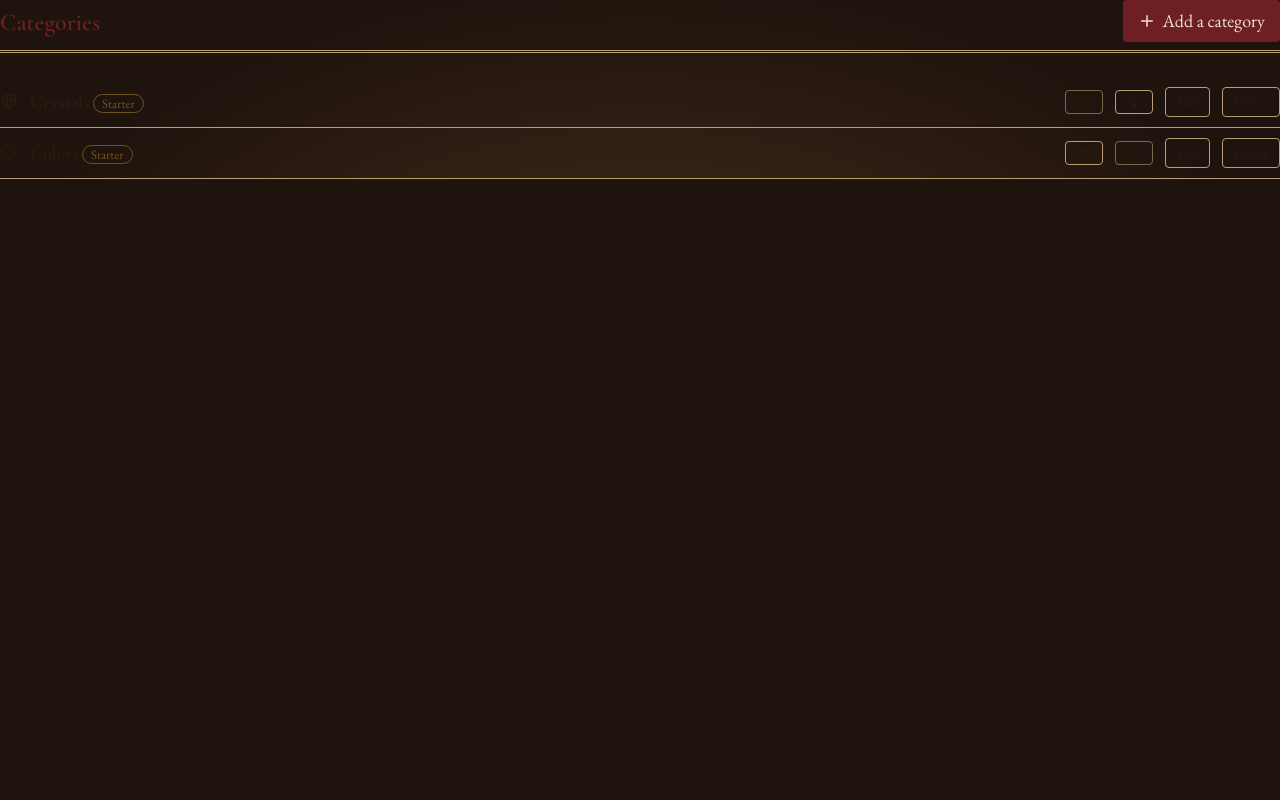
Test: Categories › shows the conflict dialog on a stale save
Click the button "Edit" in the row of "Crystals" at (1188, 102), box [1165, 87, 1210, 117]
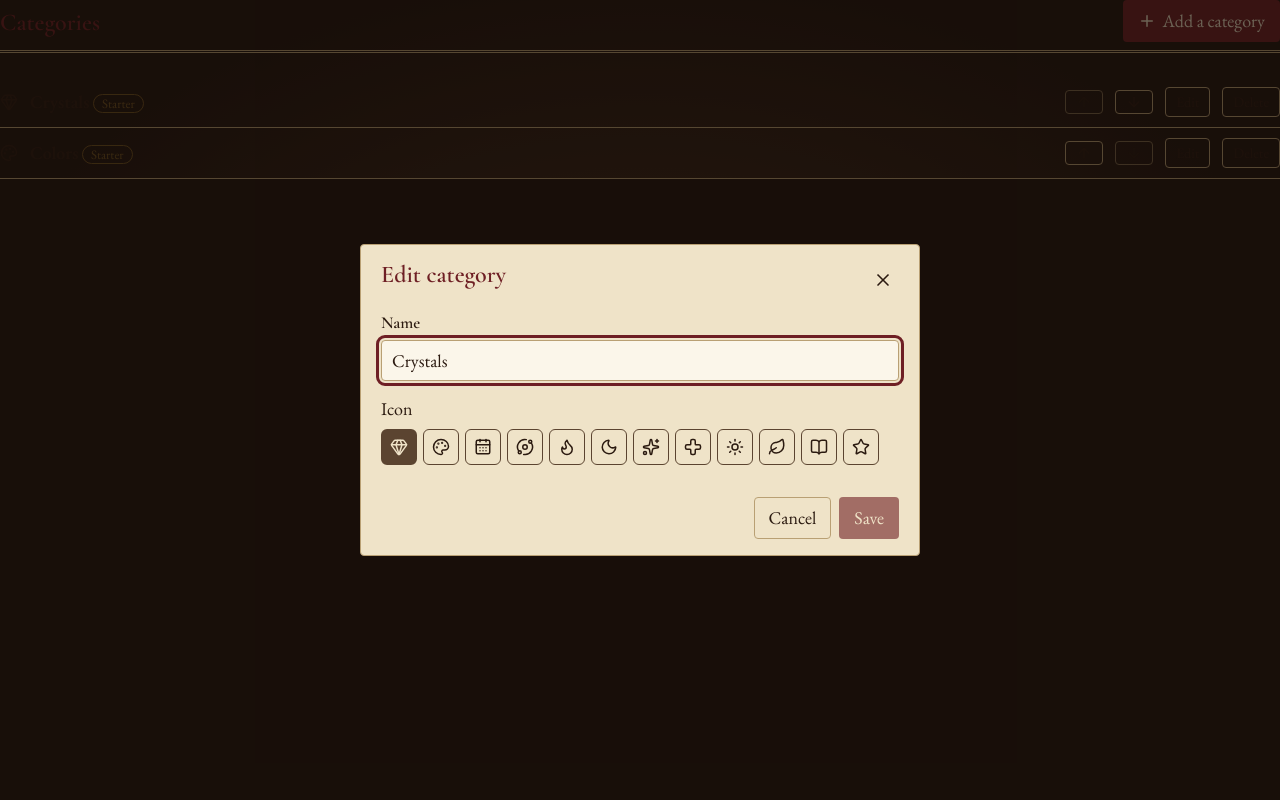
Click the radio button named "Moon" at (609, 447), box [591, 429, 627, 465]
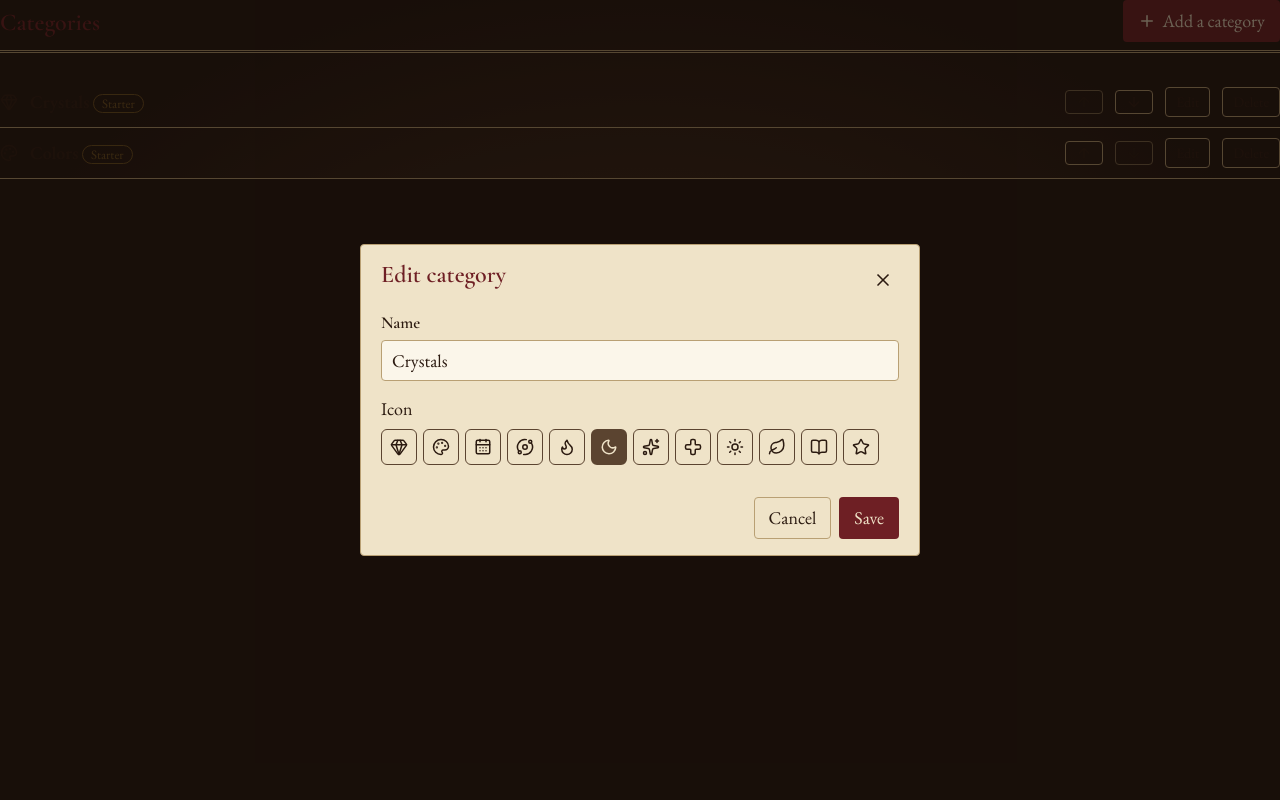
Click the button "Save" at (869, 518), box [839, 497, 899, 539]
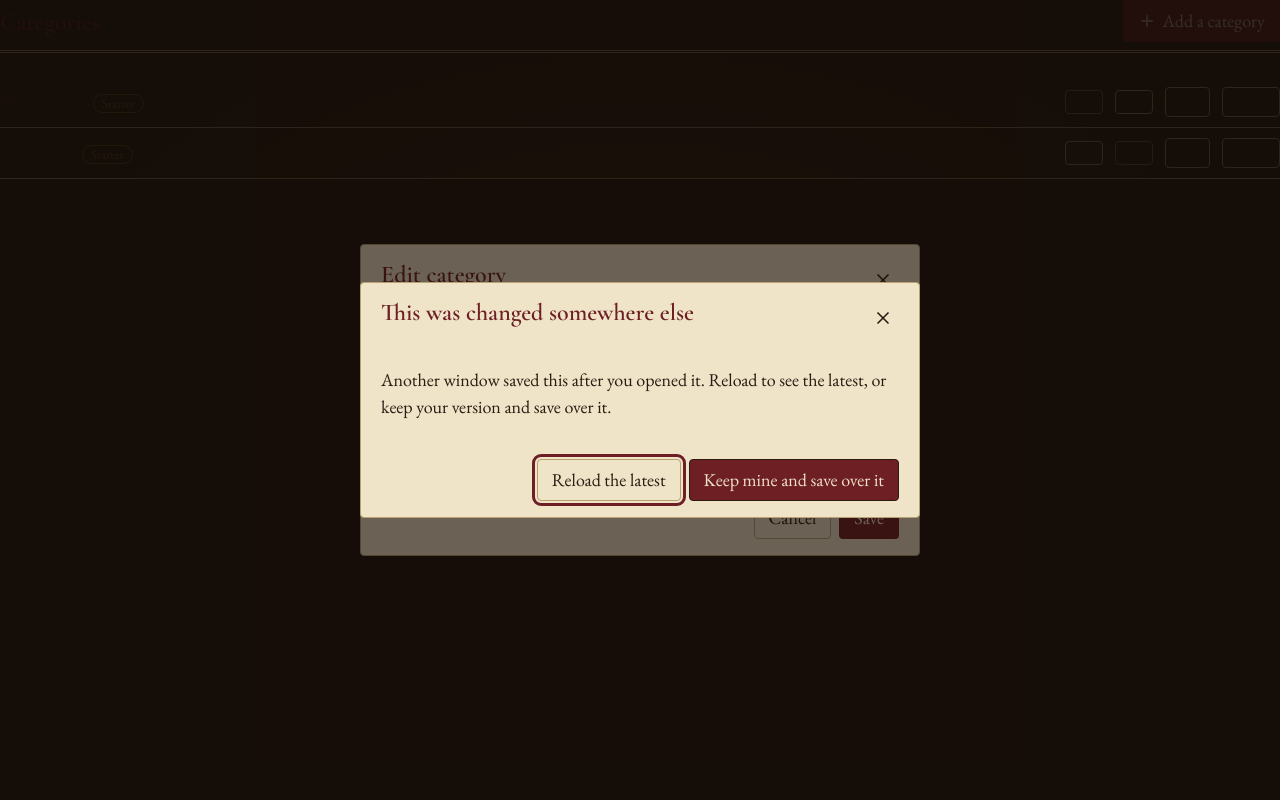
Check: the heading "This was changed somewhere else" is shown, box [381, 299, 694, 328]
